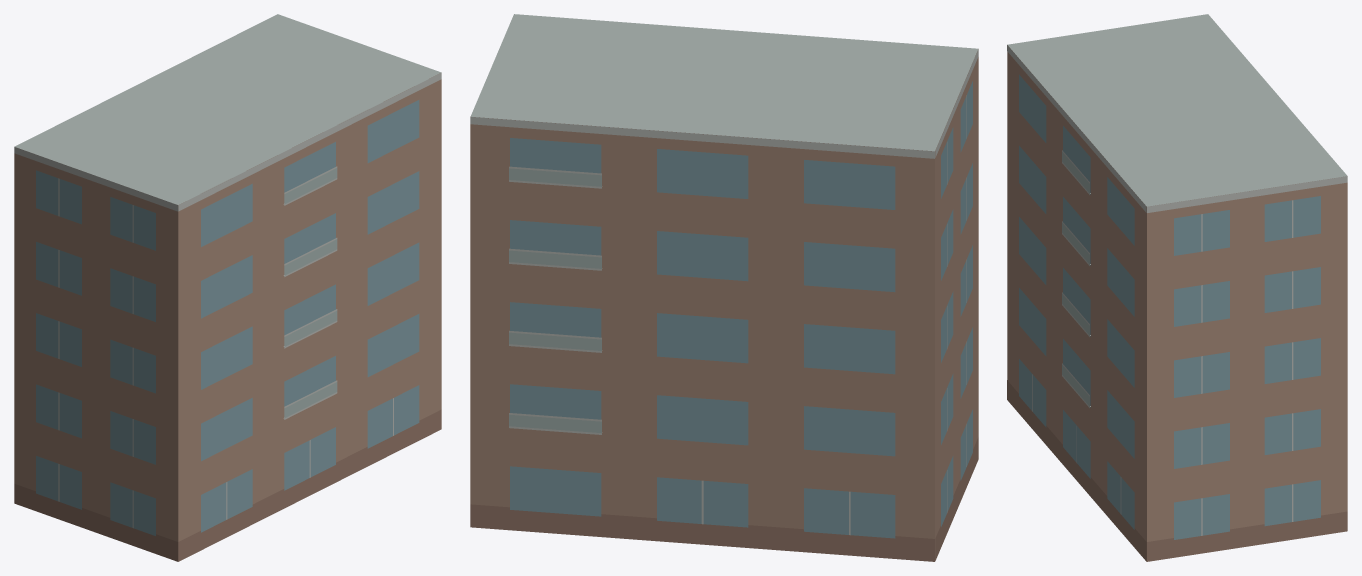
Rendered from survey-upis-32868365.glb.
3 renders of one model, left to right at view 1: azimuth 30°, elevation 25°; view 2: azimuth 150°, elevation 25°; view 3: azimuth 270°, elevation 25°, orthographic. The views are drawn at different scales.
Visible parts, largest first — view 1: survey-upis-32868365.tmp; view 2: survey-upis-32868365.tmp; view 3: survey-upis-32868365.tmp.
Part boxes in pixels (bbox=[...]): survey-upis-32868365.tmp: bbox=[14, 14, 441, 561]; survey-upis-32868365.tmp: bbox=[470, 14, 978, 561]; survey-upis-32868365.tmp: bbox=[1007, 14, 1347, 561].
Bounding box in the file's own units: 15.49 × 13.3 × 11.57.
